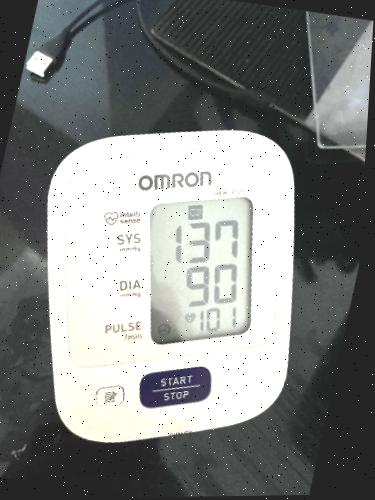bpm: (145, 192, 258, 351)
